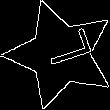L_W: (30, 32, 91, 77)
